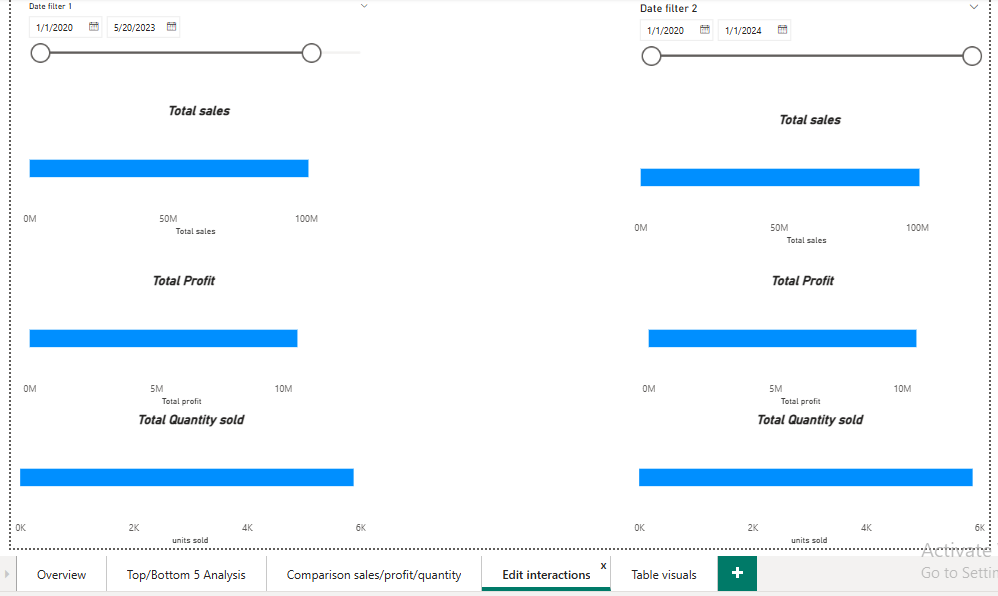

The dashboard page shown, as its layout file describes it:
{"tool":"powerbi","page":{"name":"Edit interactions","canvas":[1280,720],"ordinal":3},"visuals":[{"type":"slicer","fields":{"Values":["Fact Table.Date (dd/mm/yyyy)"]},"box":[10.1,0,469.4,123.8],"z":0},{"type":"slicer","fields":{"Values":["Fact Table.Date (dd/mm/yyyy)"]},"box":[810.7,0,469.4,180],"z":1},{"type":"barChart","title":"Total sales","fields":{"Y":["Sum(Fact Table.Net Sales)"]},"box":[10.1,136.8,469.4,178.6],"z":2},{"type":"barChart","title":"Total Profit","fields":{"Y":["Sum(Fact Table.Profit)"]},"box":[10.1,360,429.1,178.6],"z":3},{"type":"barChart","title":"Total Quantity sold","fields":{"Y":["Sum(Fact Table.Units Sold)"]},"box":[0,541.4,469.4,178.6],"z":4},{"type":"barChart","title":"Total sales","fields":{"Y":["Sum(Fact Table.Net Sales)"]},"box":[810.7,149.8,469.4,178.6],"z":5},{"type":"barChart","title":"Total Profit","fields":{"Y":["Sum(Fact Table.Profit)"]},"box":[820.8,360,429.1,178.6],"z":6},{"type":"barChart","title":"Total Quantity sold","fields":{"Y":["Sum(Fact Table.Units Sold)"]},"box":[810.7,541.4,469.4,178.6],"z":7}]}

Visuals, with their boxes on the page's 1280x720 design canvas (x1, y1, x2, y2). These are canvas units, not pixel positions in the 998x596 screenshot, which may show the page scaled, cropped or inside an application window:
slicer - Fact Table.Date (dd/mm/yyyy): {"left": 10, "top": 0, "right": 480, "bottom": 124}
slicer - Fact Table.Date (dd/mm/yyyy): {"left": 811, "top": 0, "right": 1280, "bottom": 180}
"Total sales" barChart: {"left": 10, "top": 137, "right": 480, "bottom": 315}
"Total Profit" barChart: {"left": 10, "top": 360, "right": 439, "bottom": 539}
"Total Quantity sold" barChart: {"left": 0, "top": 541, "right": 469, "bottom": 720}
"Total sales" barChart: {"left": 811, "top": 150, "right": 1280, "bottom": 328}
"Total Profit" barChart: {"left": 821, "top": 360, "right": 1250, "bottom": 539}
"Total Quantity sold" barChart: {"left": 811, "top": 541, "right": 1280, "bottom": 720}
